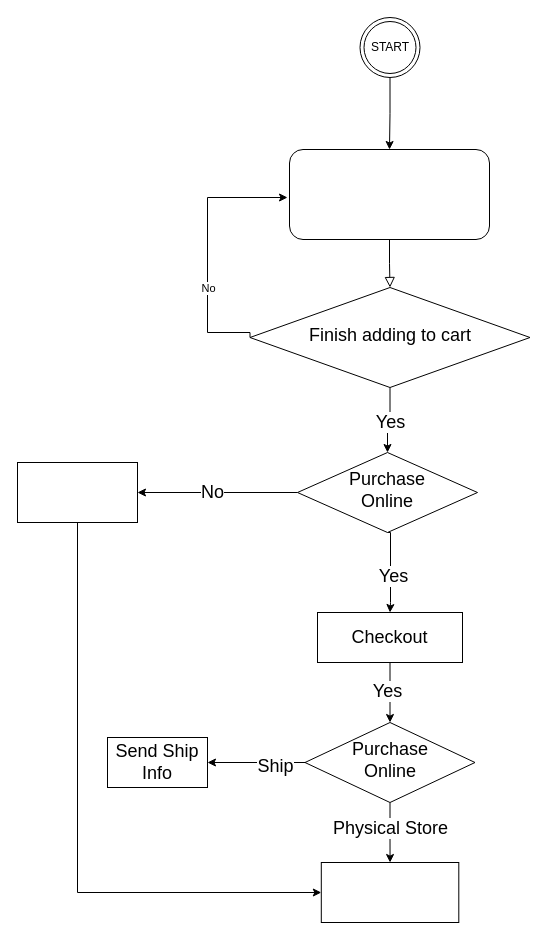
The diagram is 548 pixels wide and 940 high, and some of its shapes have lost their labels. Each missing label, with the centre of its shape:
"Add Something to cart" goes at [389,194].
"Create Order" goes at [77,492].
"Send Order Info" goes at [389,892].
